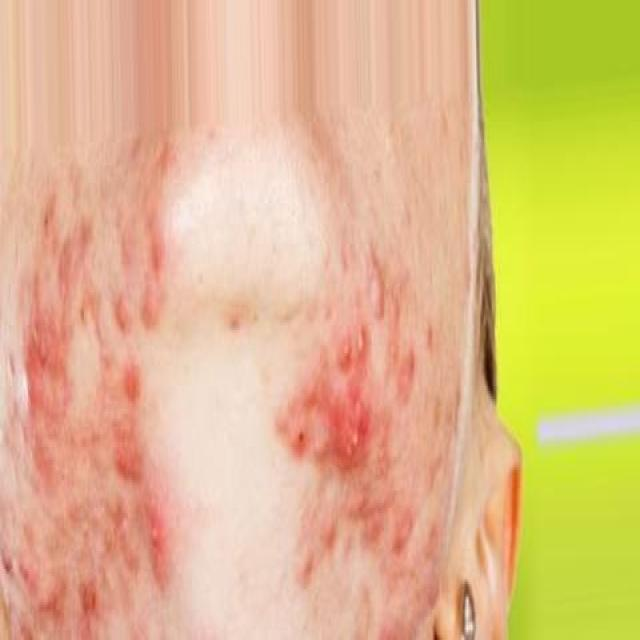acne: (360, 256, 425, 394), (295, 364, 363, 487), (13, 281, 70, 414), (122, 182, 163, 333), (108, 354, 144, 472), (140, 488, 174, 606), (361, 502, 412, 558)
